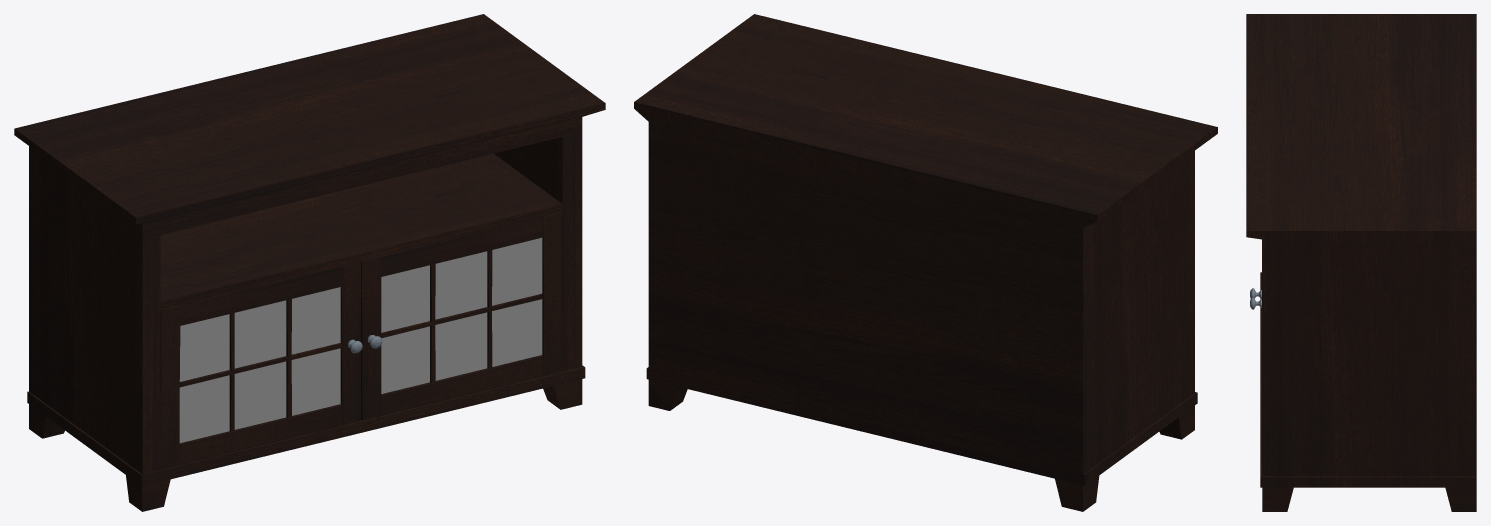
Rendered from Sideboard.FBX.
The picture shows the model from 3 angles, left to right: view 1: azimuth 30°, elevation 25°; view 2: azimuth 150°, elevation 25°; view 3: azimuth 270°, elevation 25°; orthographic projection. The views are drawn at different scales.
Visible parts, largest first — view 1: sideboard, door A, door B; view 2: sideboard; view 3: sideboard, door A.
Part boxes in pixels (x1,y1,x2,y2): sideboard: [14, 14, 605, 511]; door A: [361, 212, 562, 420]; door B: [160, 261, 362, 469]; sideboard: [634, 14, 1217, 511]; sideboard: [1246, 14, 1476, 511]; door A: [1250, 240, 1262, 462].
Size of the model in its own units: 127 by 78.71 by 57.13.
Materials: 3 (2 with a texture image).
